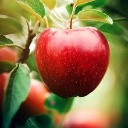apple: (35, 25, 111, 100)
